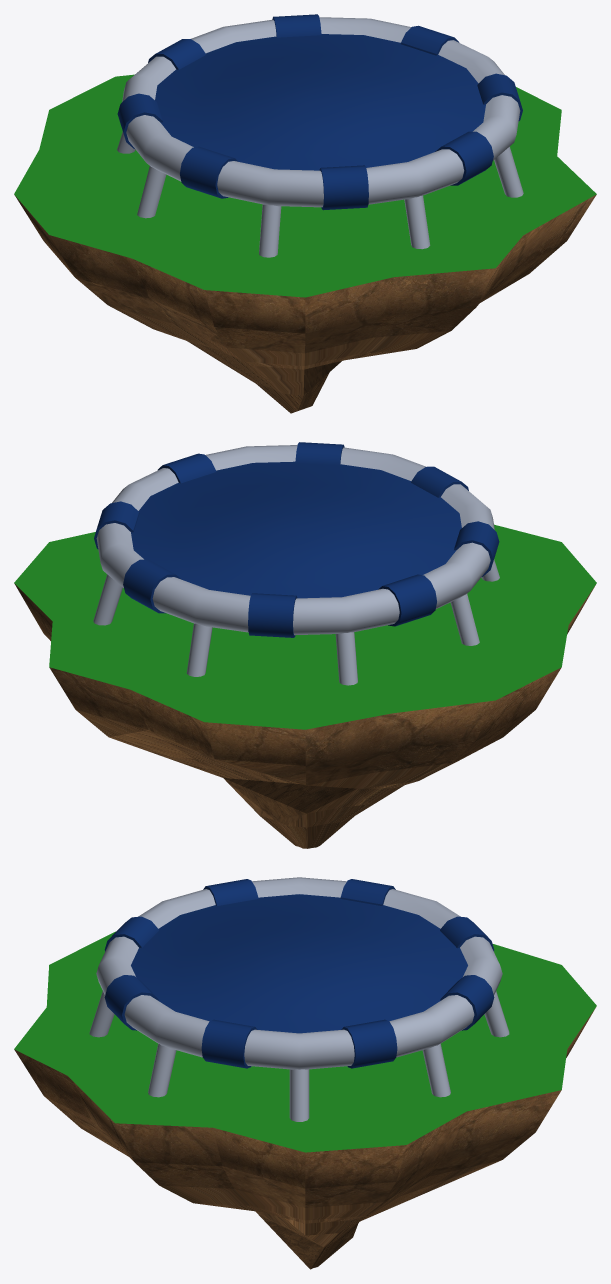
The model's file is parco_p3.fbx.
The picture shows the model from 3 angles, top to bottom: view 1: azimuth 30°, elevation 25°; view 2: azimuth 150°, elevation 25°; view 3: azimuth 270°, elevation 25°; orthographic projection.
Visible parts, largest first — view 1: Trampoline, erba.003, ground.003; view 2: Trampoline, erba.003, ground.003; view 3: Trampoline, erba.003, ground.003.
Part boxes in pixels (x1,y1,x2,y2): Trampoline: [117, 14, 523, 257]; erba.003: [14, 74, 596, 297]; ground.003: [14, 194, 596, 413]; Trampoline: [93, 442, 499, 685]; erba.003: [14, 524, 596, 729]; ground.003: [14, 583, 595, 848]; Trampoline: [89, 877, 509, 1121]; erba.003: [14, 931, 596, 1152]; ground.003: [14, 1008, 595, 1269].
Bounding box in the file's own units: 1375 × 811 × 1354.
3 materials, 2 textured.
